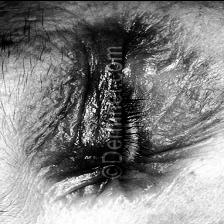Non-Cancerous Skin Condition: (128, 0, 224, 194), (15, 13, 96, 204)
